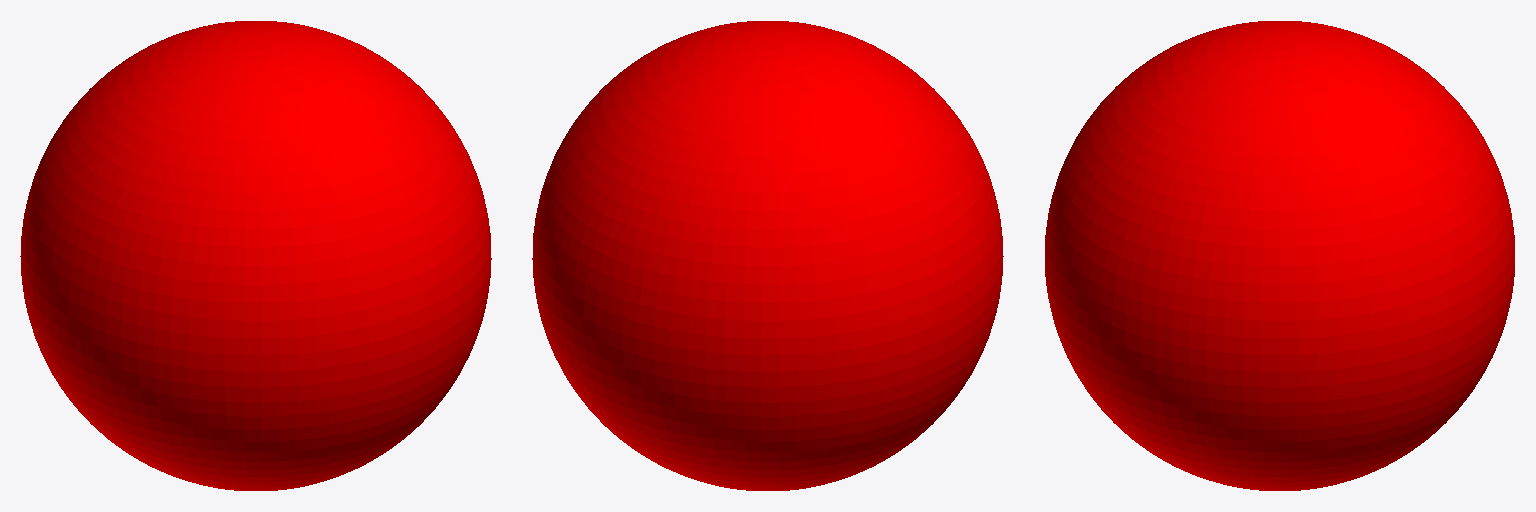
robot.urdf — sphere:
<?xml version="1.0" encoding="utf-8"?>

<robot  name="sphere">
  <link  name="sphere">
  
    <inertial>
      <origin xyz="-1.1481E-17 0 0" rpy="0 0 0" />
      <mass value="5" />
      <inertia ixx="52.36" ixy="0" ixz="0" iyy="52.36" iyz="0" izz="52.36" />
    </inertial>
	
    <visual>
      <origin xyz="0 0 0" rpy="1.5707963267949 0 0" />
	  
      <geometry>
			<mesh filename="meshes/sphere.STL" />
      </geometry>
	  
      <material name="">
        <color rgba="1 0 0 1" />		
        <texture filename="textures/" />
      </material>
	  
    </visual>
	
    <collision>
      <origin xyz="0 0 0" rpy="1.5707963267949 0 0" />
	  
      <geometry>
        <mesh filename="meshes/sphere.STL" />
      </geometry>
	  
    </collision>
  </link>
</robot>

--- Render facts (derived) ---
3 views of the same robot in one strip: view 1: azimuth 30°, elevation 25°; view 2: azimuth 150°, elevation 25°; view 3: azimuth 270°, elevation 25° (orthographic).
Robot: sphere — 1 links, 0 joints (none); root link sphere; default pose: every joint at zero.
Visible links, largest first — view 1: sphere; view 2: sphere; view 3: sphere.
Boxes of the visible links, x1,y1,x2,y2 form: sphere: (20, 21, 491, 490); sphere: (532, 21, 1003, 490); sphere: (1045, 21, 1514, 490).
Size in the robot's own frame: 0.9996 by 0.9998 by 1 metres.
1 mesh visuals loaded from 1 distinct referenced files (1 binary STL).